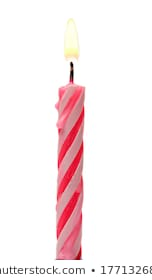Fire: (58, 18, 83, 62)
